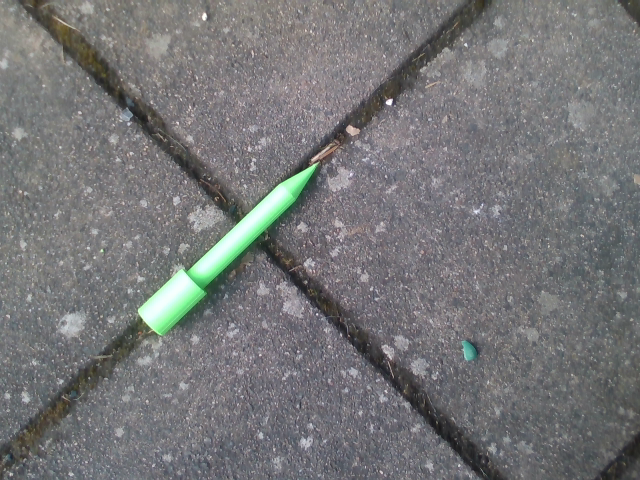Probe: (135, 149, 330, 338)
